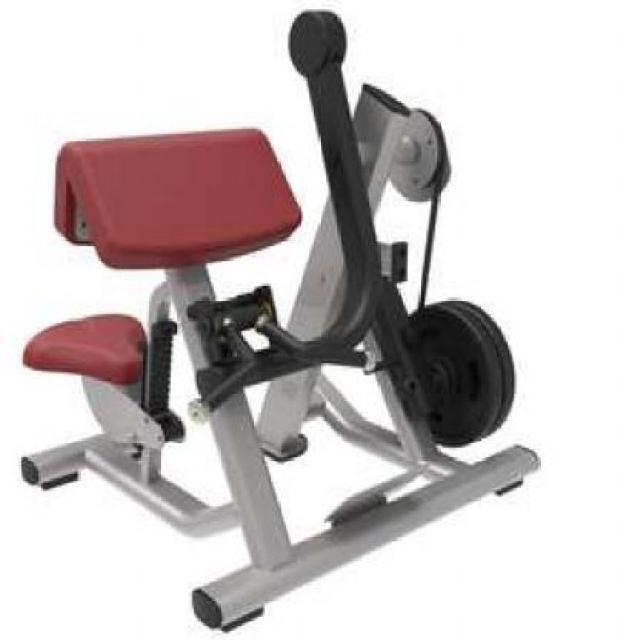arm curl machine: (20, 11, 540, 631)
